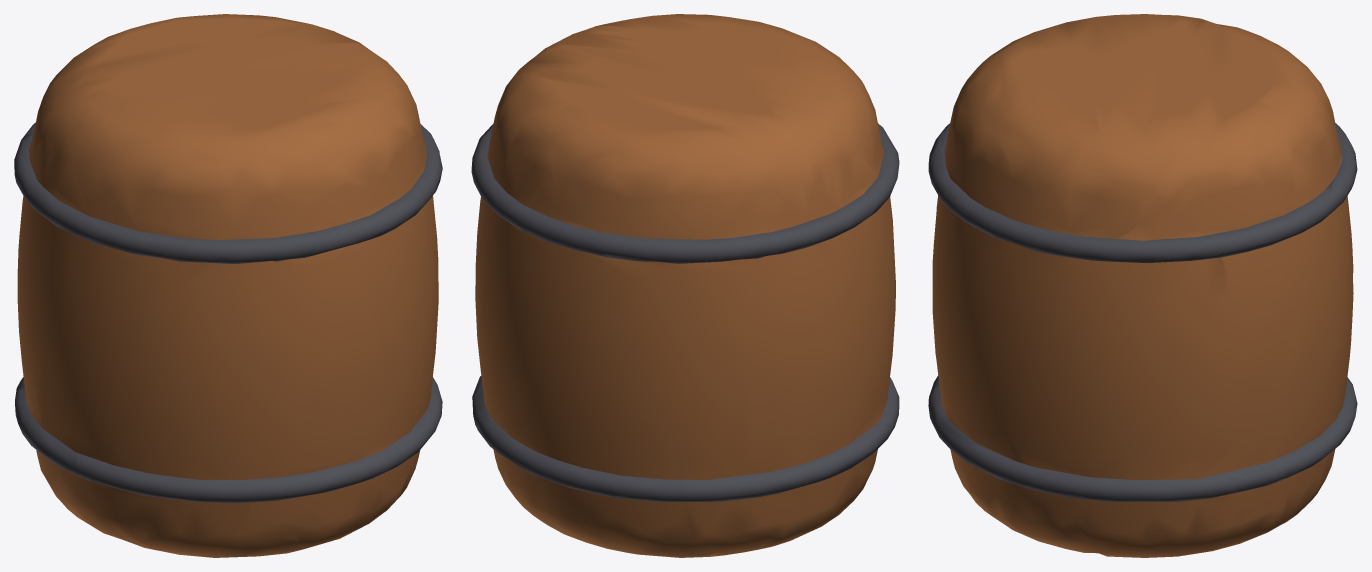
The model's file is barrel.glb.
3 renders of one model, left to right at view 1: azimuth 30°, elevation 25°; view 2: azimuth 150°, elevation 25°; view 3: azimuth 270°, elevation 25°, orthographic.
Visible parts, largest first — view 1: root; view 2: root; view 3: root.
Part boxes in pixels (bbox=[...]): root: bbox=[14, 14, 442, 557]; root: bbox=[471, 14, 899, 557]; root: bbox=[928, 14, 1357, 557].
Bounding box in the file's own units: 0.7133 × 0.79 × 0.7154.
